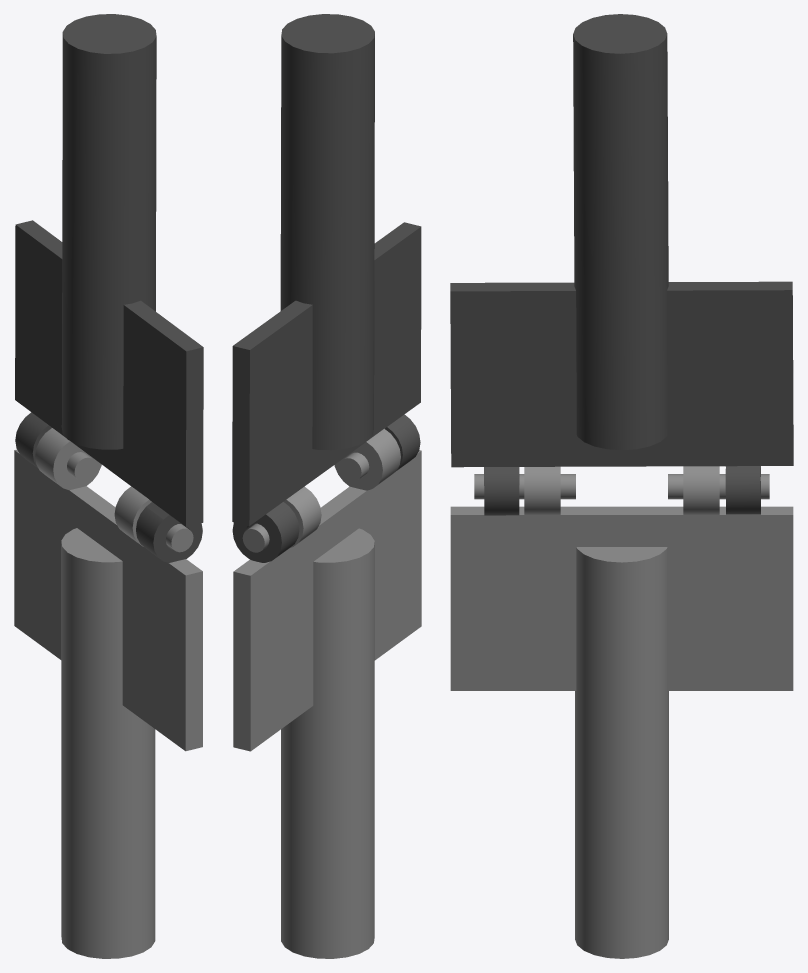
File: Hinge.gltf
3 views of the same model, side by side, from view 1: azimuth 30°, elevation 25°; view 2: azimuth 150°, elevation 25°; view 3: azimuth 270°, elevation 25° (orthographic).
Parts seen in each view (by area): view 1: HingeA1:pCylinder8group12group9group12group1, HingeB1:pCylinder7group1; view 2: HingeA1:pCylinder8group12group9group12group1, HingeB1:pCylinder7group1; view 3: HingeB1:pCylinder7group1, HingeA1:pCylinder8group12group9group12group1.
Part boxes in pixels (<box>): HingeA1:pCylinder8group12group9group12group1: <box>15,14,203,562</box>; HingeB1:pCylinder7group1: <box>14,428,202,958</box>; HingeA1:pCylinder8group12group9group12group1: <box>232,14,421,562</box>; HingeB1:pCylinder7group1: <box>233,428,421,958</box>; HingeB1:pCylinder7group1: <box>450,466,793,958</box>; HingeA1:pCylinder8group12group9group12group1: <box>450,14,793,515</box>.
Bounding box in the file's own units: 0.0955 × 1.01 × 0.3454.
1 material, 1 textured.
